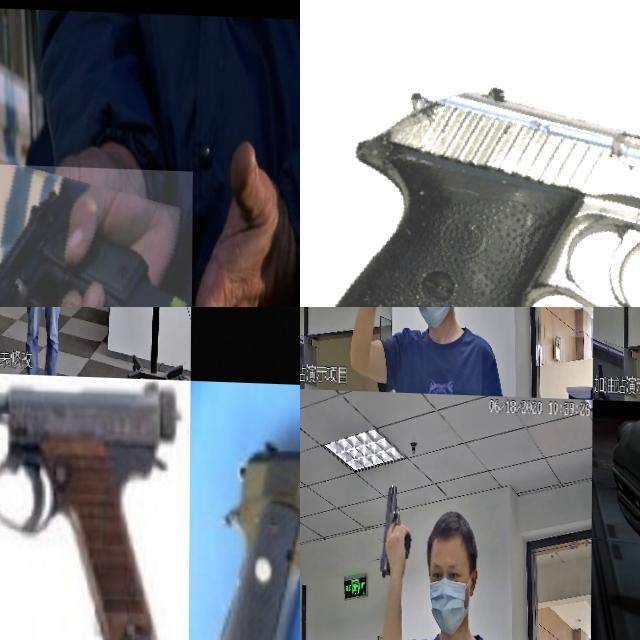gun-knife-thesis - v11 Yolov5 augmented: (300, 61, 640, 307), (0, 370, 178, 640), (0, 160, 193, 307), (208, 427, 300, 640), (376, 483, 411, 566), (367, 307, 408, 349), (256, 307, 300, 342), (42, 307, 53, 329)
